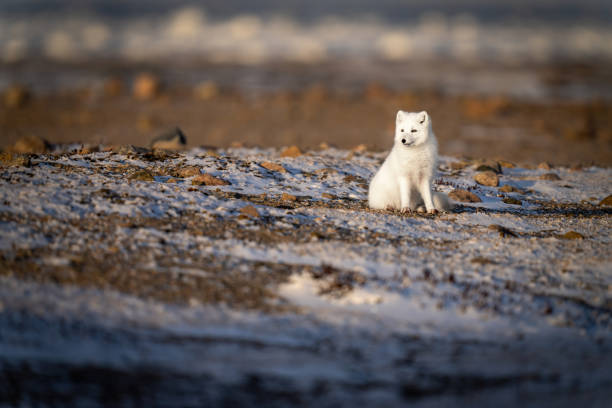arcticfox: (396, 117, 423, 161)
